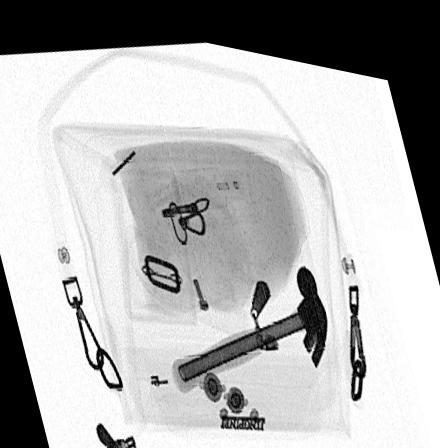Hammer: (172, 253, 327, 387)
